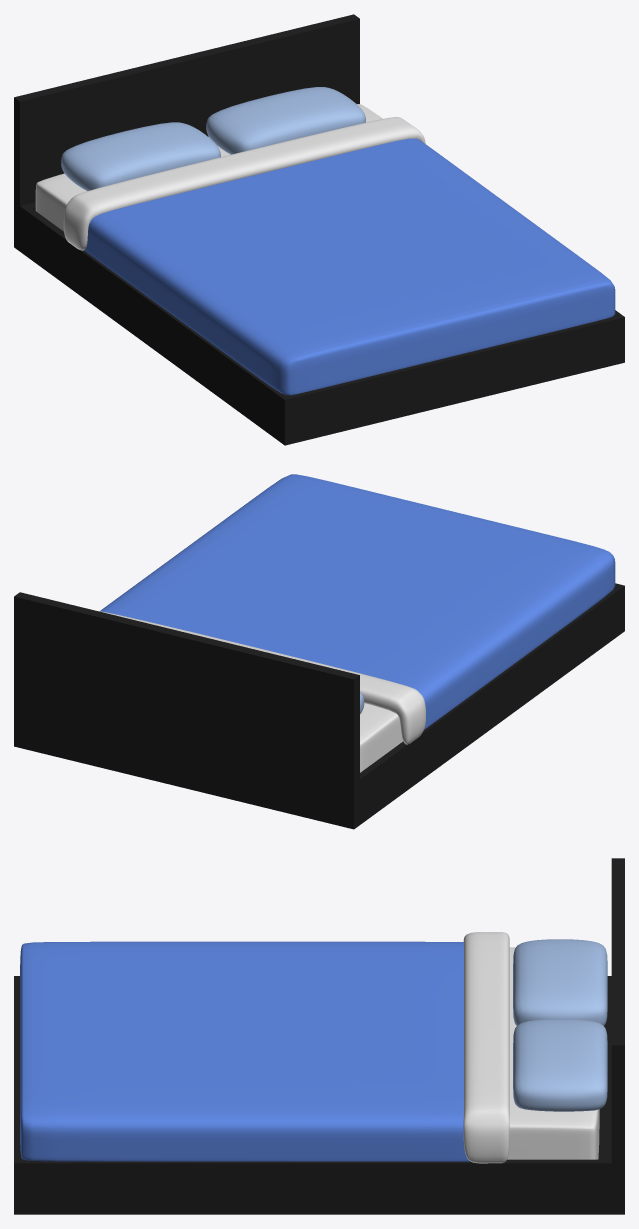
File: Bed.fbx
3 views of the same model, one above another, from view 1: azimuth 30°, elevation 25°; view 2: azimuth 150°, elevation 25°; view 3: azimuth 270°, elevation 25° (orthographic). The views are drawn at different scales.
Visible parts, largest first — view 1: BedFrame; view 2: BedFrame; view 3: BedFrame.
Boxes of the visible parts, <box> form: BedFrame: <box>14,14,624,445</box>; BedFrame: <box>14,474,624,829</box>; BedFrame: <box>14,858,624,1214</box>.
Bounding box in the file's own units: 382 × 158 × 517.
